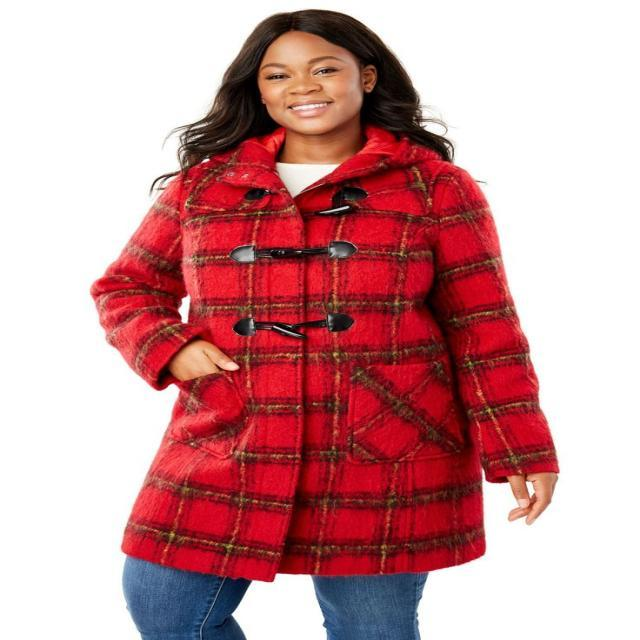coat: (85, 118, 560, 583)
trousers: (115, 548, 434, 640)
